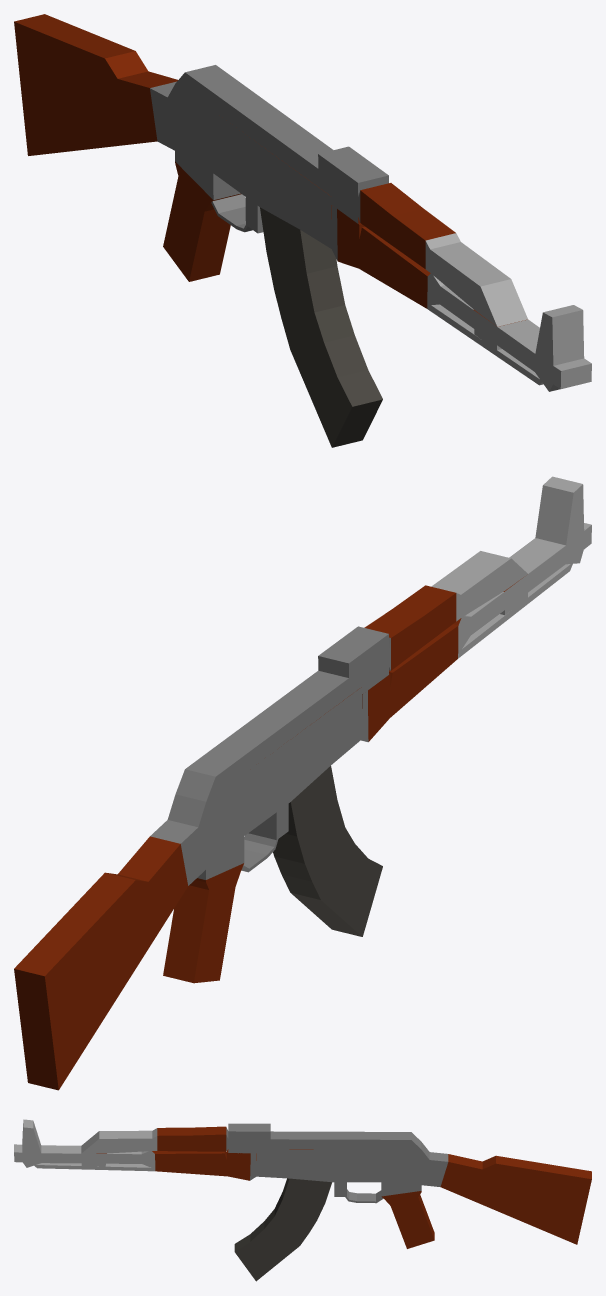
3 renders of one model, top to bottom at view 1: azimuth 30°, elevation 25°; view 2: azimuth 150°, elevation 25°; view 3: azimuth 270°, elevation 25°, orthographic. The views are drawn at different scales.
Visible parts, largest first — view 1: Cube; view 2: Cube; view 3: Cube.
Boxes of the visible parts, x1,y1,x2,y2 form: Cube: [14, 14, 591, 447]; Cube: [14, 476, 591, 1090]; Cube: [14, 1119, 591, 1281].
Size of the model in its own units: 30.91 by 280 by 951.
